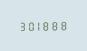eight: (50, 19, 57, 30), (58, 19, 65, 30), (42, 20, 49, 30)
one: (34, 20, 41, 31)
three: (17, 20, 24, 31)
zero: (25, 20, 32, 31)
